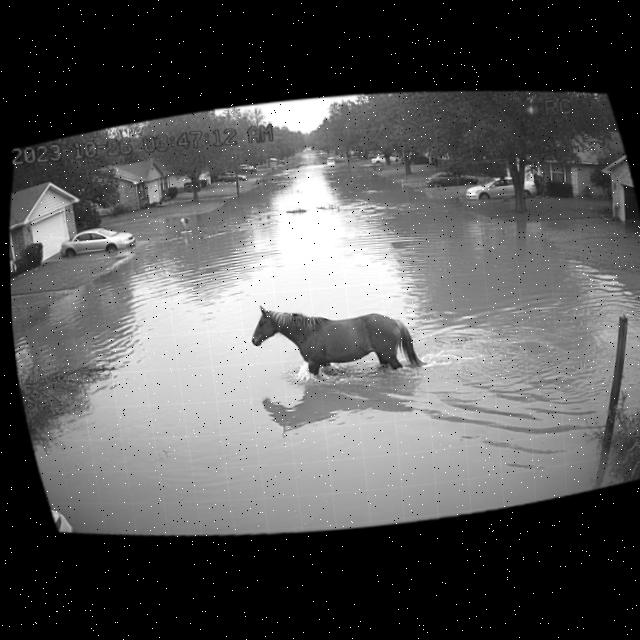horse: (232, 283, 443, 393)
